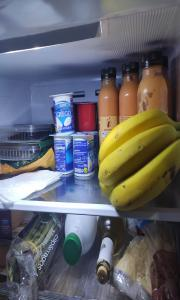Leche: (62, 215, 97, 266)
Plátano: (99, 100, 179, 210)
Queso: (108, 218, 178, 300)
Yogur: (74, 133, 96, 179), (50, 93, 74, 134), (51, 134, 74, 174), (76, 102, 96, 131)
